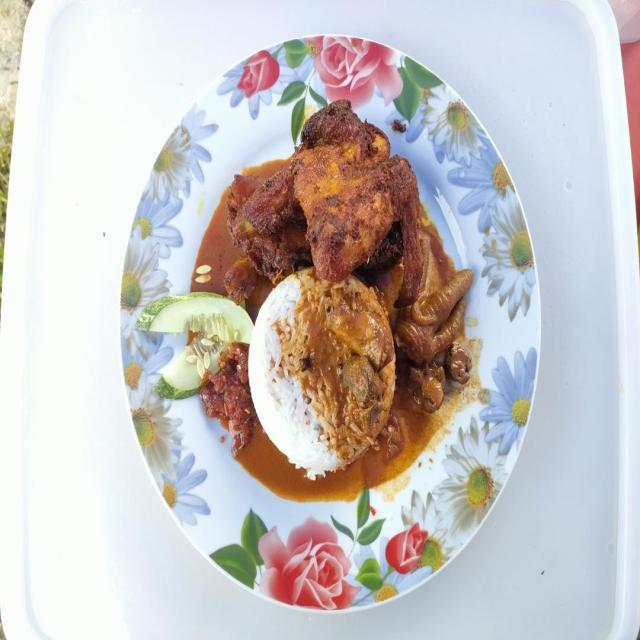Chicken: (220, 100, 475, 374)
Plate: (0, 2, 639, 639)
Rice: (247, 267, 395, 486)
Vegetables: (140, 294, 254, 398)
